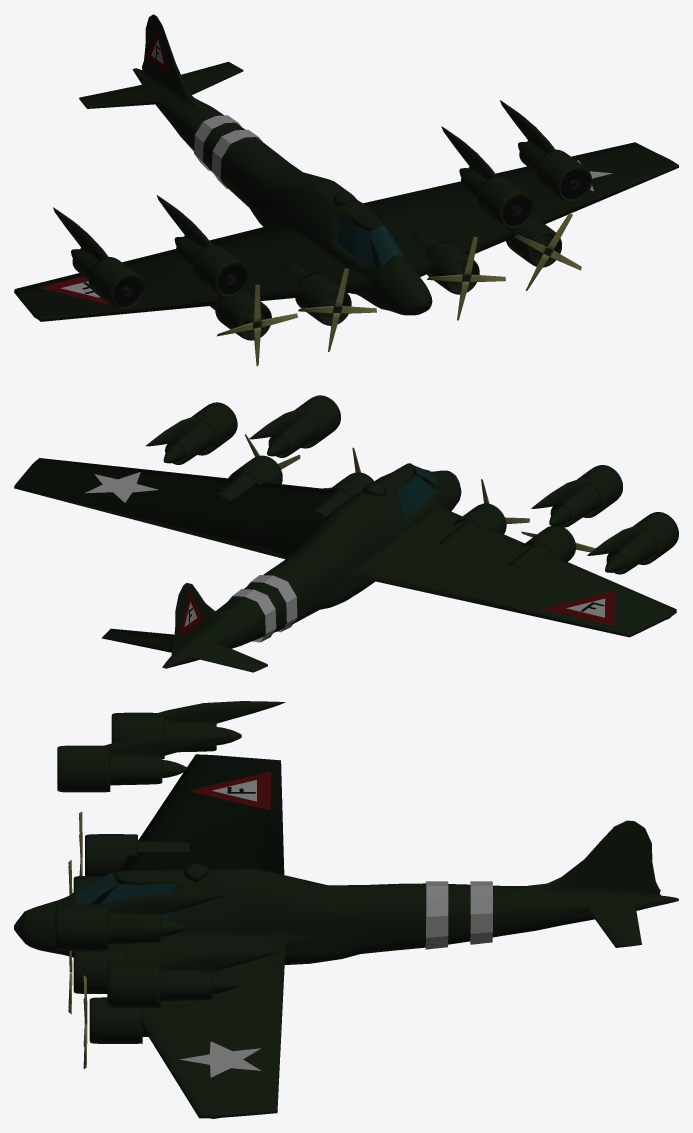
File: bomber01.obj
3 views of the same model, one above another, from view 1: azimuth 30°, elevation 25°; view 2: azimuth 150°, elevation 25°; view 3: azimuth 270°, elevation 25° (orthographic). The views are drawn at different scales.
Visible parts, largest first — view 1: Body_Cube.001_C-5_material, Cylinder.001_Cylinder.004_C-5_material, Cylinder.002_Cylinder.005_C-5_material, Cylinder.003_Cylinder.006_C-5_material, Cylinder_Cylinder.003_C-5_material, Cylinder.004_Cylinder.000_C-5_material, windows_Cube.017_window, Cylinder.006_Cylinder.002_C-5_material, Cylinder.005_Cylinder.001_C-5_material, Cylinder.007_Cylinder.007_C-5_material, Circle.005_Circle.001_sign_2, Circle.003_Circle.009_rotodome_top (+4 smaller); view 2: Body_Cube.001_C-5_material, Cylinder_Cylinder.003_C-5_material, Cylinder.001_Cylinder.004_C-5_material, Cylinder.002_Cylinder.005_C-5_material, Cylinder.003_Cylinder.006_C-5_material, Circle.005_Circle.001_sign_2, Cylinder.005_Cylinder.001_C-5_material, Cylinder.007_Cylinder.007_C-5_material, Cylinder.004_Cylinder.000_C-5_material, windows_Cube.017_window, Cylinder.006_Cylinder.002_C-5_material, Plane_Plane_sign_red (+1 smaller); view 3: Body_Cube.001_C-5_material, Cylinder.003_Cylinder.006_C-5_material, Cylinder_Cylinder.003_C-5_material, Cylinder.002_Cylinder.005_C-5_material, Cylinder.001_Cylinder.004_C-5_material, Circle.005_Circle.001_sign_2, Cylinder.007_Cylinder.007_C-5_material, Cylinder.005_Cylinder.001_C-5_material, Cylinder.006_Cylinder.002_C-5_material, windows_Cube.017_window, Plane_Plane_sign_red, Circle.004_Circle_sign_2.
Boxes of the visible parts, x1,y1,x2,y2 form: Body_Cube.001_C-5_material: [14, 14, 678, 321]; Cylinder.001_Cylinder.004_C-5_material: [53, 207, 145, 310]; Cylinder.002_Cylinder.005_C-5_material: [441, 126, 533, 229]; Cylinder.003_Cylinder.006_C-5_material: [156, 195, 248, 297]; Cylinder_Cylinder.003_C-5_material: [500, 100, 591, 202]; Cylinder.004_Cylinder.000_C-5_material: [282, 263, 351, 325]; windows_Cube.017_window: [337, 213, 405, 268]; Cylinder.006_Cylinder.002_C-5_material: [410, 231, 479, 294]; Cylinder.005_Cylinder.001_C-5_material: [210, 289, 271, 340]; Cylinder.007_Cylinder.007_C-5_material: [506, 216, 561, 267]; Circle.005_Circle.001_sign_2: [194, 115, 262, 189]; Circle.003_Circle.009_rotodome_top: [217, 264, 245, 294]; Body_Cube.001_C-5_material: [14, 458, 676, 672]; Cylinder_Cylinder.003_C-5_material: [146, 402, 237, 464]; Cylinder.001_Cylinder.004_C-5_material: [587, 512, 678, 574]; Cylinder.002_Cylinder.005_C-5_material: [249, 395, 340, 457]; Cylinder.003_Cylinder.006_C-5_material: [531, 465, 622, 527]; Circle.005_Circle.001_sign_2: [228, 575, 297, 642]; Cylinder.005_Cylinder.001_C-5_material: [507, 525, 575, 568]; Cylinder.007_Cylinder.007_C-5_material: [213, 455, 282, 500]; Cylinder.004_Cylinder.000_C-5_material: [438, 503, 506, 547]; windows_Cube.017_window: [396, 465, 437, 517]; Cylinder.006_Cylinder.002_C-5_material: [310, 472, 373, 516]; Plane_Plane_sign_red: [543, 591, 614, 625]; Body_Cube.001_C-5_material: [14, 754, 678, 1118]; Cylinder.003_Cylinder.006_C-5_material: [57, 734, 230, 792]; Cylinder_Cylinder.003_C-5_material: [107, 949, 281, 1007]; Cylinder.002_Cylinder.005_C-5_material: [55, 892, 228, 950]; Cylinder.001_Cylinder.004_C-5_material: [111, 701, 285, 759]; Circle.005_Circle.001_sign_2: [425, 881, 492, 949]; Cylinder.007_Cylinder.007_C-5_material: [89, 997, 194, 1043]; Cylinder.005_Cylinder.001_C-5_material: [85, 834, 189, 875]; Cylinder.006_Cylinder.002_C-5_material: [73, 947, 176, 993]; windows_Cube.017_window: [76, 872, 175, 918]; Plane_Plane_sign_red: [189, 771, 270, 810]; Circle.004_Circle_sign_2: [179, 1041, 261, 1077].
Size of the model in its own units: 3.93 by 0.8282 by 3.09.
